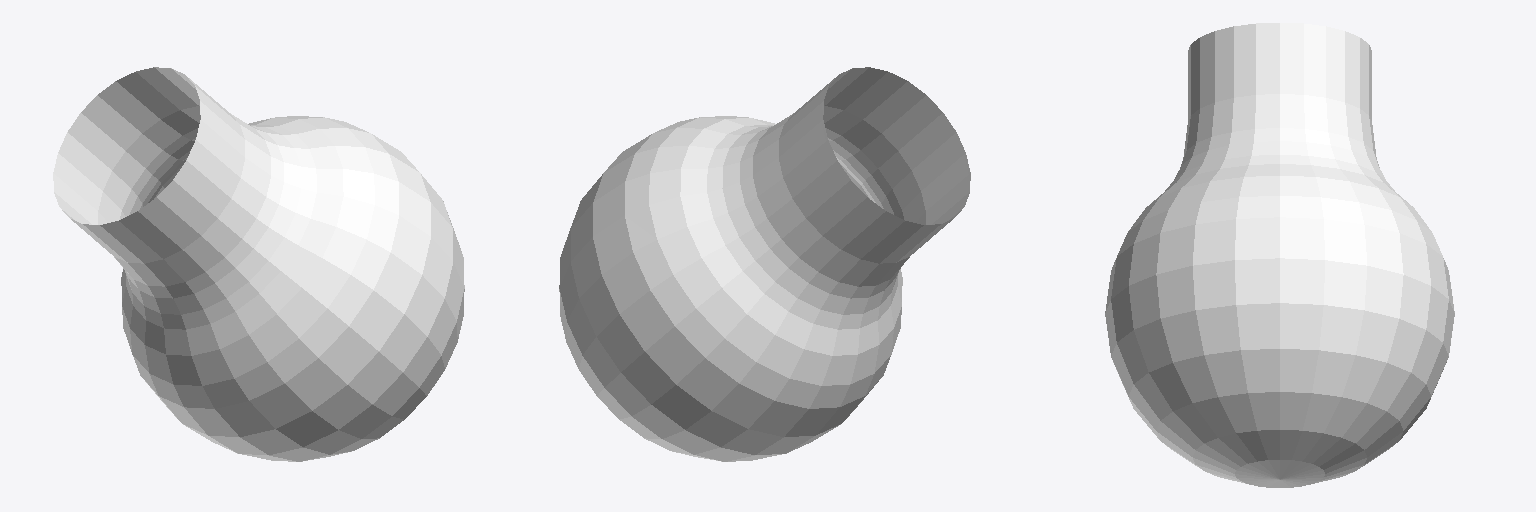
The picture shows the model from 3 angles: view 1: azimuth 30°, elevation 25°; view 2: azimuth 150°, elevation 25°; view 3: azimuth 270°, elevation 25°; orthographic projection.
Visible parts, largest first — view 1: polySurface28 polySurface10; view 2: polySurface28 polySurface10; view 3: polySurface28 polySurface10.
Boxes of the visible parts, box(x1,y1,x2,y2) form: polySurface28 polySurface10: box(53, 67, 464, 461); polySurface28 polySurface10: box(559, 67, 970, 461); polySurface28 polySurface10: box(1105, 23, 1454, 487).
Bounding box in the file's own units: 0.2838 × 0.2884 × 0.2299.
Materials: 1 (1 with a texture image).